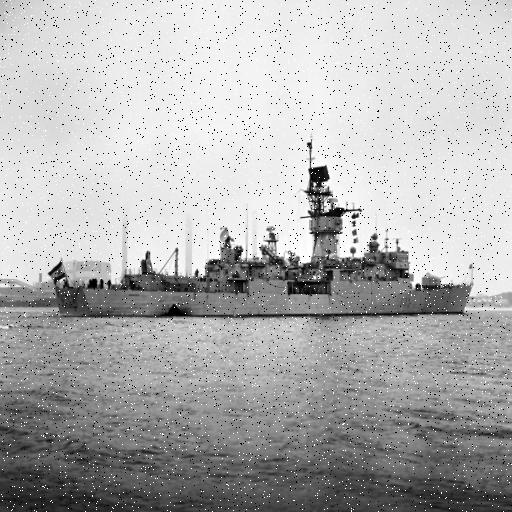Fragata: (44, 134, 475, 323)
